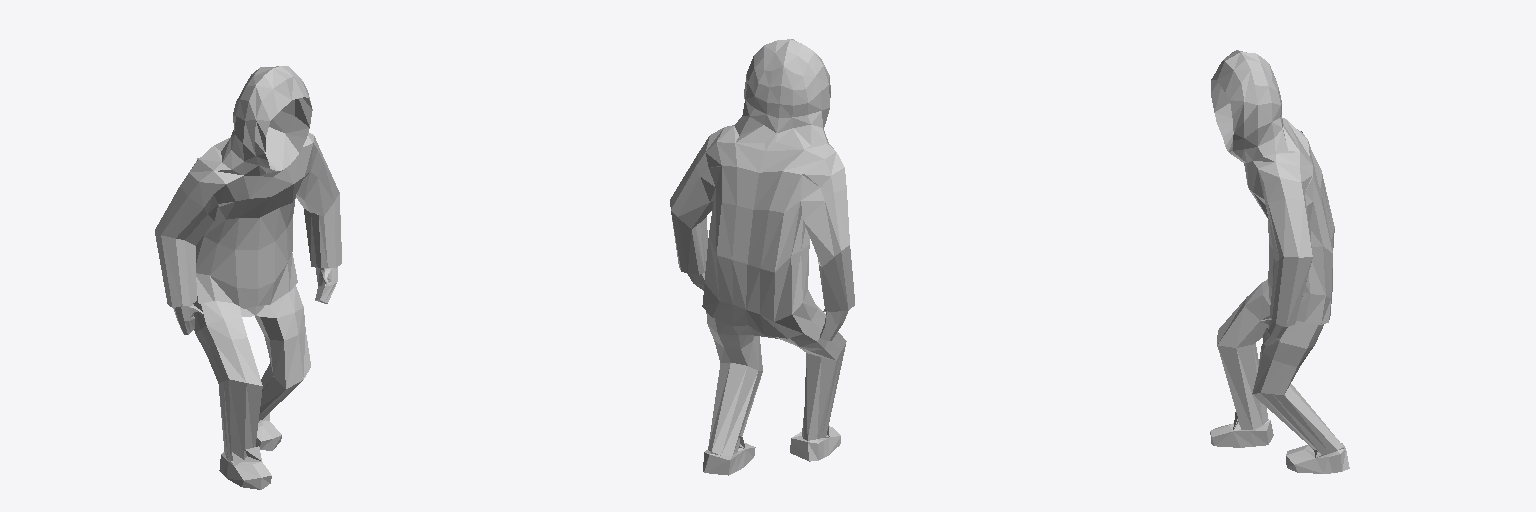
Rendered from Shadowmanv_000009.obj.
3 views of the same model, side by side, from view 1: azimuth 30°, elevation 25°; view 2: azimuth 150°, elevation 25°; view 3: azimuth 270°, elevation 25° (orthographic).
Visible parts, largest first — view 1: Cube.000; view 2: Cube.000; view 3: Cube.000.
Boxes of the visible parts, <box> form: Cube.000: <box>155,66,341,489</box>; Cube.000: <box>670,39,854,475</box>; Cube.000: <box>1210,50,1349,473</box>.
Bounding box in the file's own units: 5 × 10.94 × 3.41.